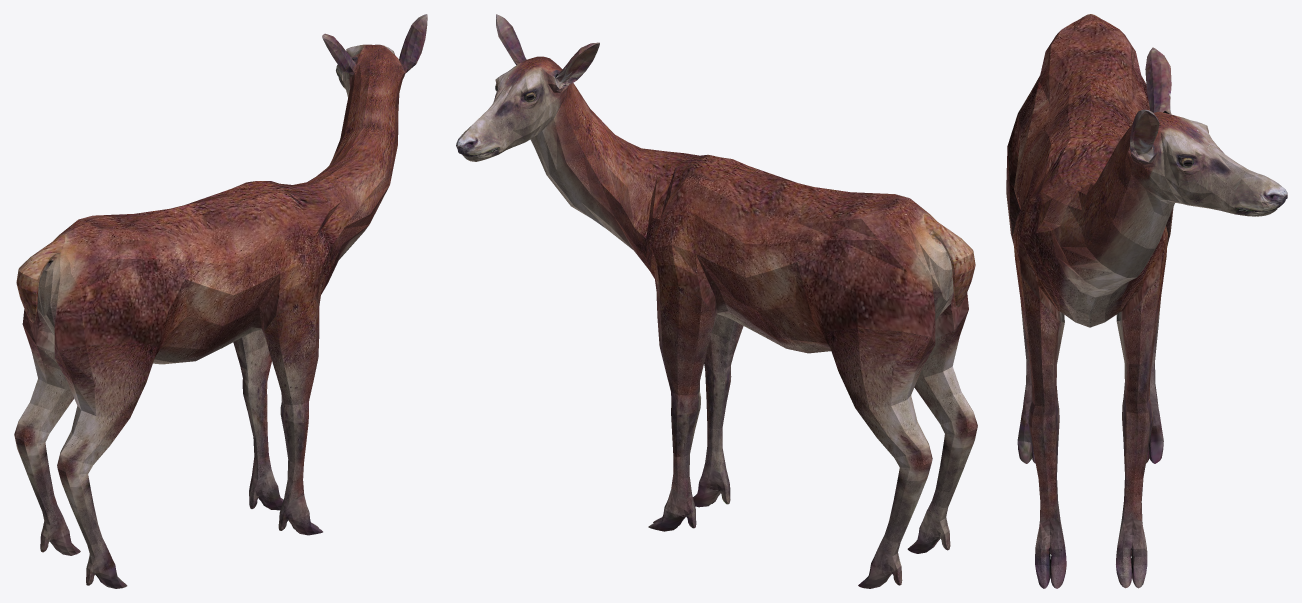
Rendered from deer.gltf.
The picture shows the model from 3 angles, left to right: view 1: azimuth 30°, elevation 25°; view 2: azimuth 150°, elevation 25°; view 3: azimuth 270°, elevation 25°; orthographic projection. The views are drawn at different scales.
Bounding box in the file's own units: 2.48 × 2.5 × 1.12.
3 materials, 3 textured.
